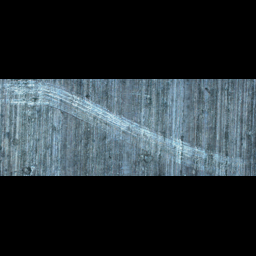d: (0, 79, 75, 107), (177, 143, 243, 171), (120, 126, 186, 153), (67, 102, 121, 128)
